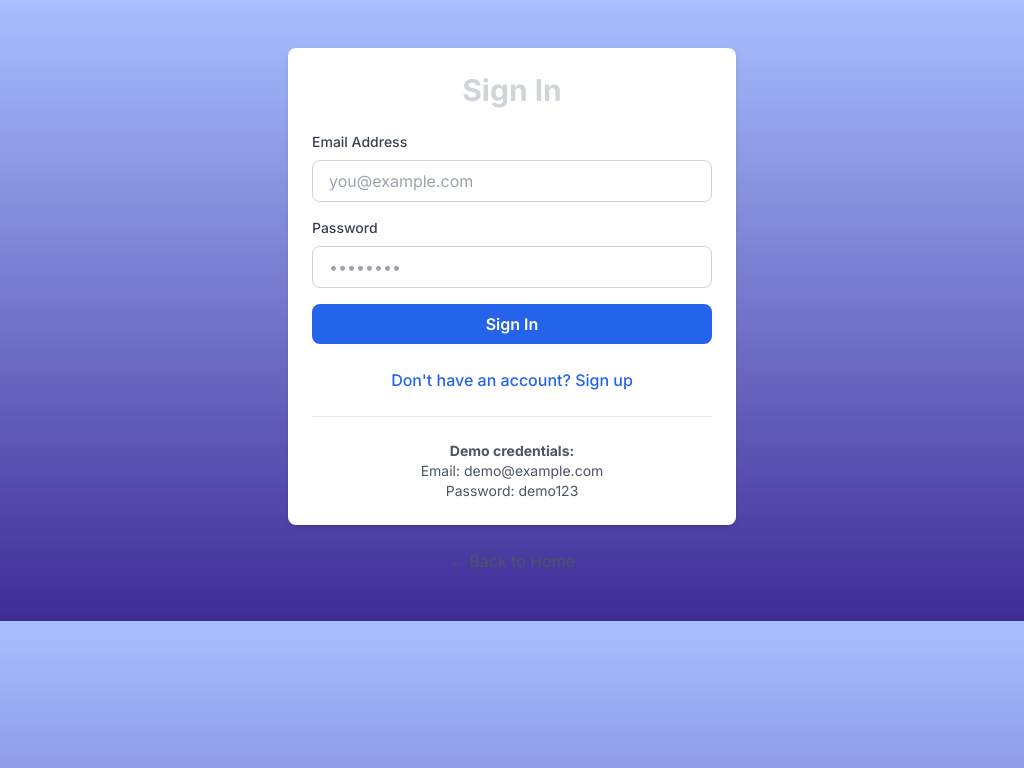
Test: LoginPage › Initial Render › renders registration form when toggled
Click the button "Don't have an account? Sign up": (512,380) left=391, top=368, right=633, bottom=392
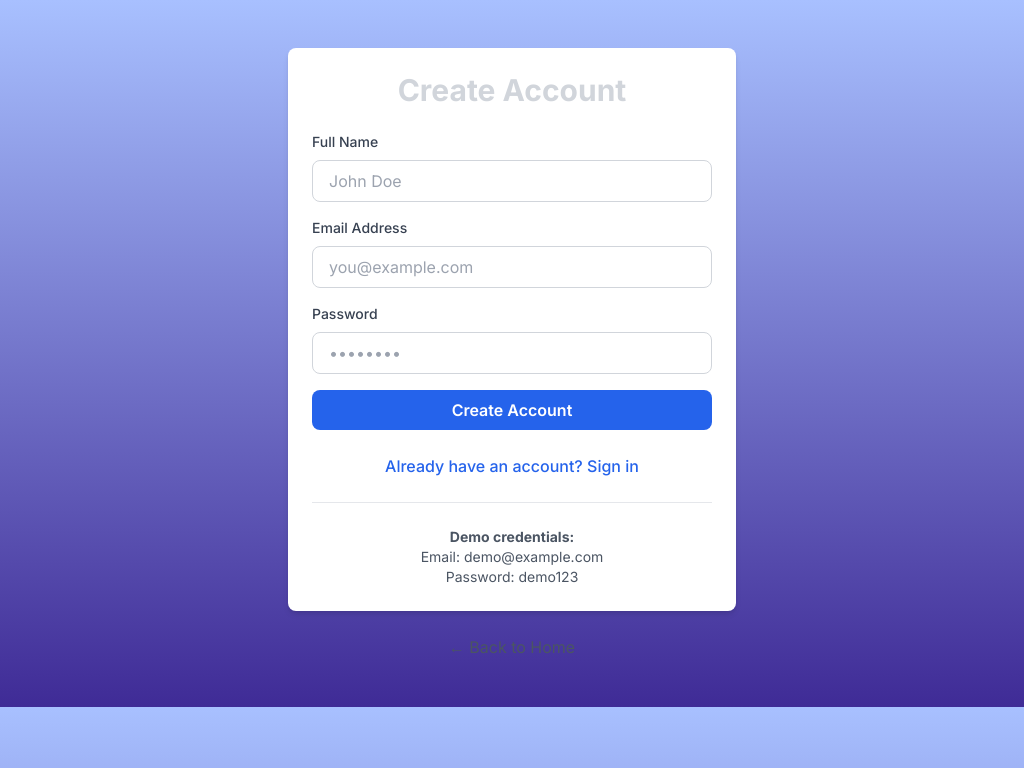
Expected: the heading "Create Account" is shown, left=398, top=72, right=626, bottom=108
Expected: the field labelled "Full Name" is shown, left=312, top=160, right=712, bottom=202
Expected: the button "Create Account" is shown, left=312, top=390, right=712, bottom=430
